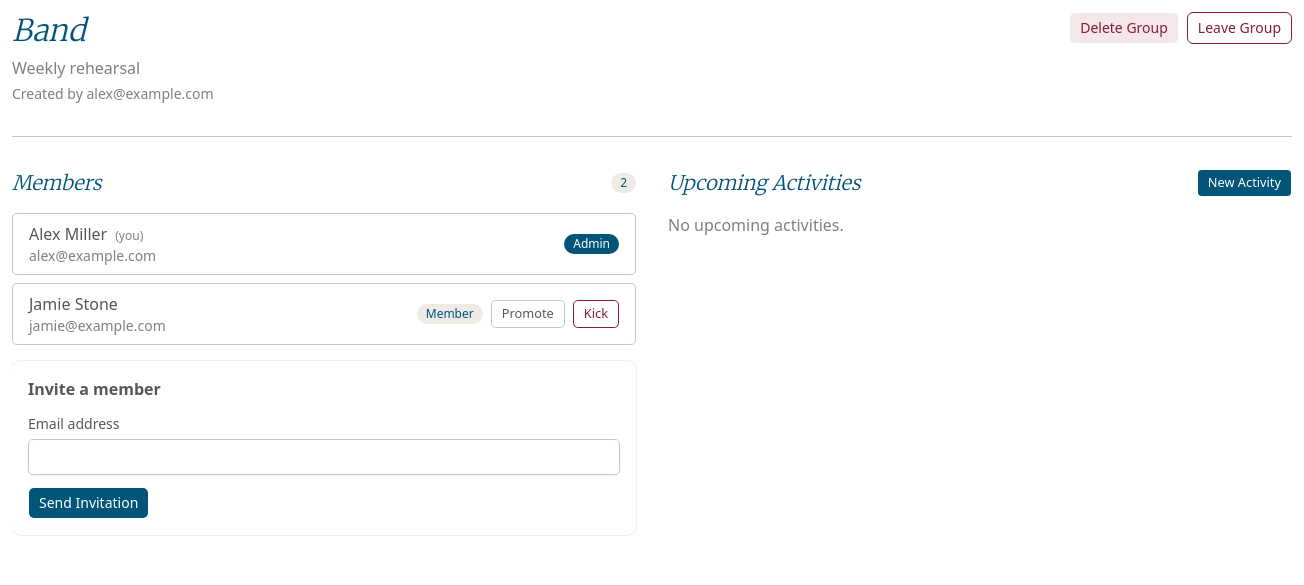
Scenario: GroupDetailPage › submits invites from the admin-only invite form
Expected: the heading "Invite a member" is shown, 28,378 -> 161,400
Type "new@example.com" into the field labelled "Email address" at (324, 457), box 28,439 -> 620,475
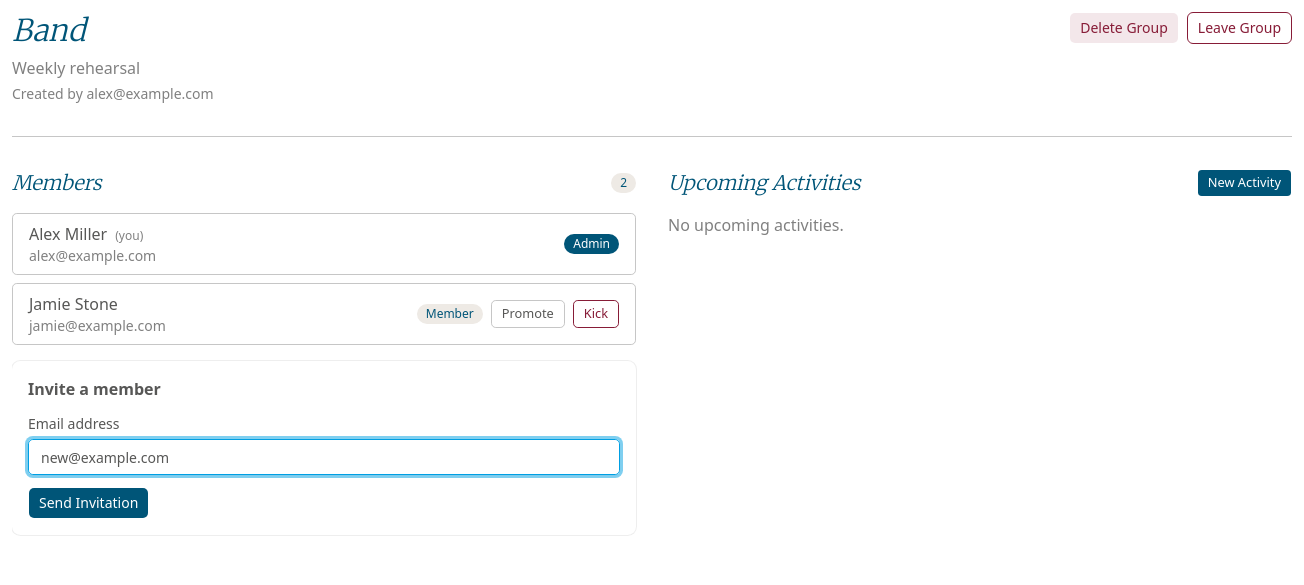
Click the button "Send Invitation" at (89, 503), box 28,487 -> 149,519
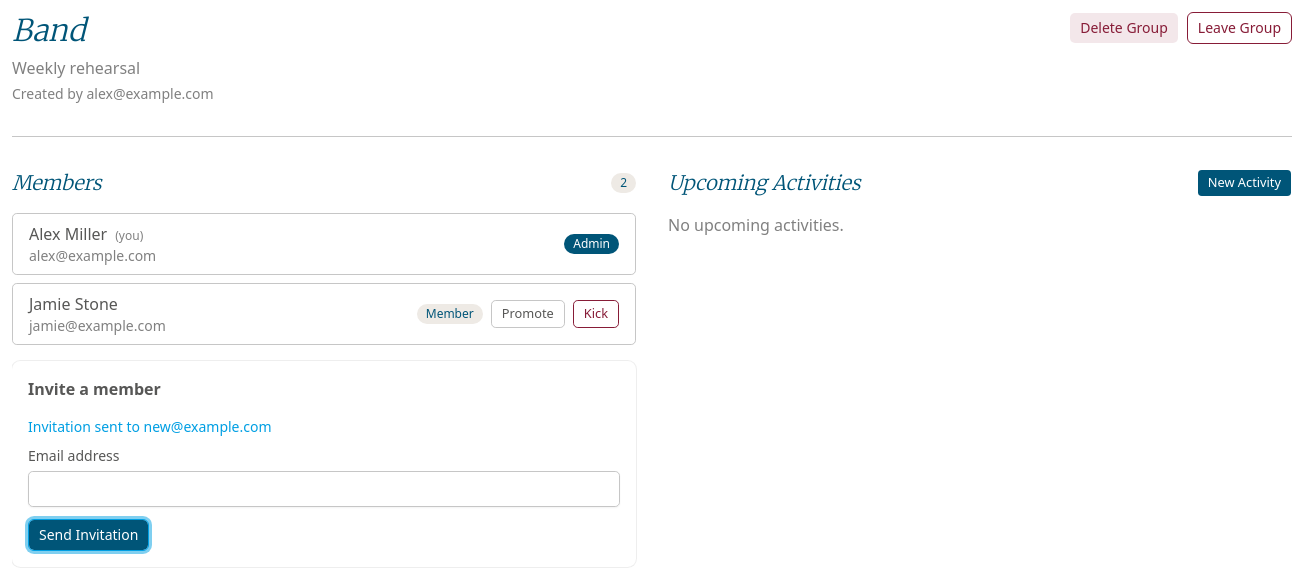
Expected: the text "Invitation sent to new@example.com" is shown, 28,417 -> 272,436
